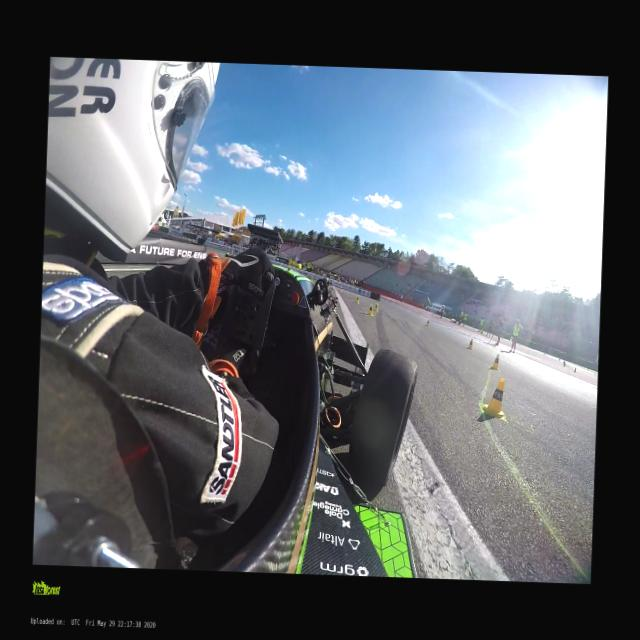yellow_cone: (480, 376, 509, 416), (488, 352, 500, 370), (366, 304, 373, 316), (466, 338, 472, 350), (424, 320, 430, 326), (354, 296, 358, 304), (374, 303, 378, 311), (573, 366, 576, 373), (338, 285, 341, 291)
